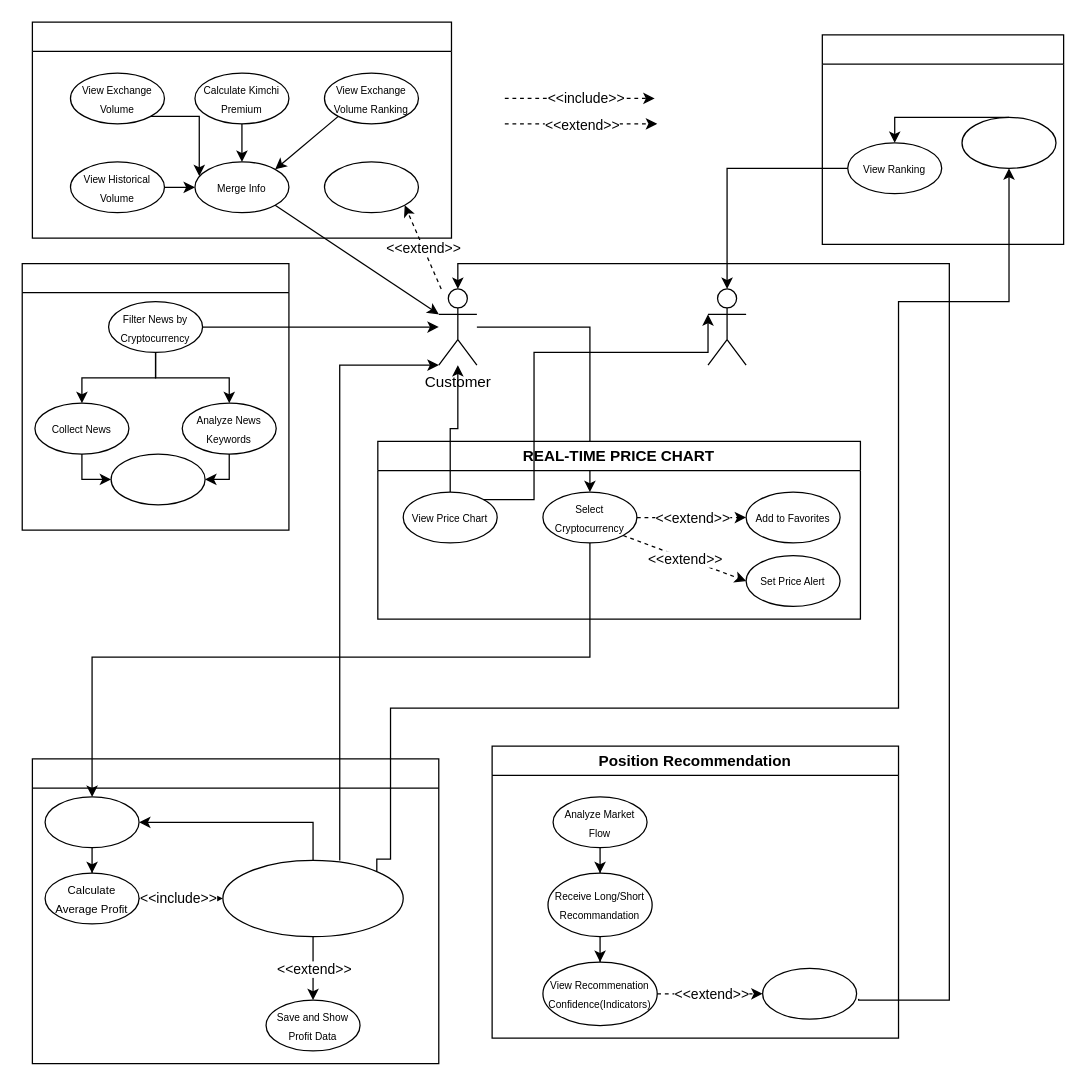
Image size: 1086x1086. Some labels were removed from this diagram. Here are the shapes that lost their labels. From the top down, the box of each, then its label:
(31, 21, 451, 238): EXCHANGE INFORMATION
(821, 34, 1064, 244): Ranking Chart
(961, 116, 1056, 168): Sorting Information
(323, 161, 418, 213): Add Exchange to Favorites
(707, 288, 746, 365): Visitor
(21, 262, 289, 530): News and Makret Trends
(110, 453, 205, 505): View News Summary
(44, 796, 139, 848): Set Duration(data) Range
(31, 758, 439, 1064): Profitability Analysis
(222, 859, 403, 937): View Expected Profit and Loss Ratio / Display Profitability Graph
(761, 967, 857, 1019): Set Recommendation Alert
